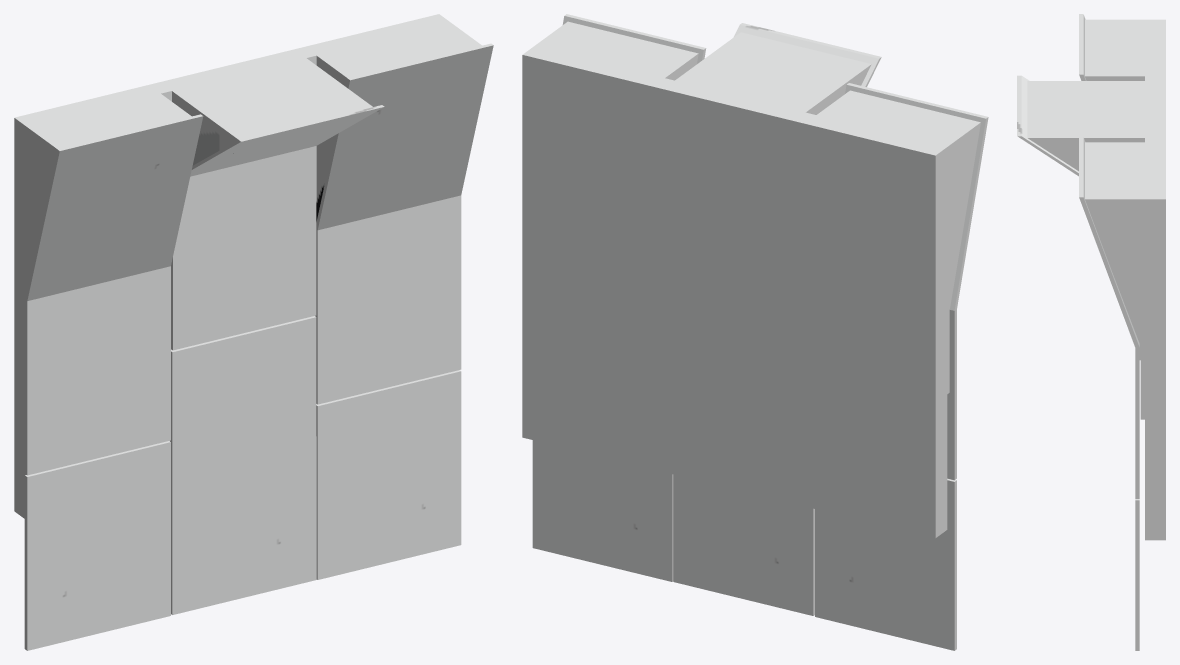
Rendered from 3X Wall.FBX.
3 renders of one model, left to right at view 1: azimuth 30°, elevation 25°; view 2: azimuth 150°, elevation 25°; view 3: azimuth 270°, elevation 25°, orthographic. The views are drawn at different scales.
Visible parts, largest first — view 1: Object044; view 2: Object044; view 3: Object044.
Boxes of the visible parts, box(x1,y1,x2,y2) form: Object044: box(14, 14, 493, 650); Object044: box(522, 14, 988, 650); Object044: box(1017, 14, 1165, 650).
Bounding box in the file's own units: 17.31 × 19.96 × 5.93.
